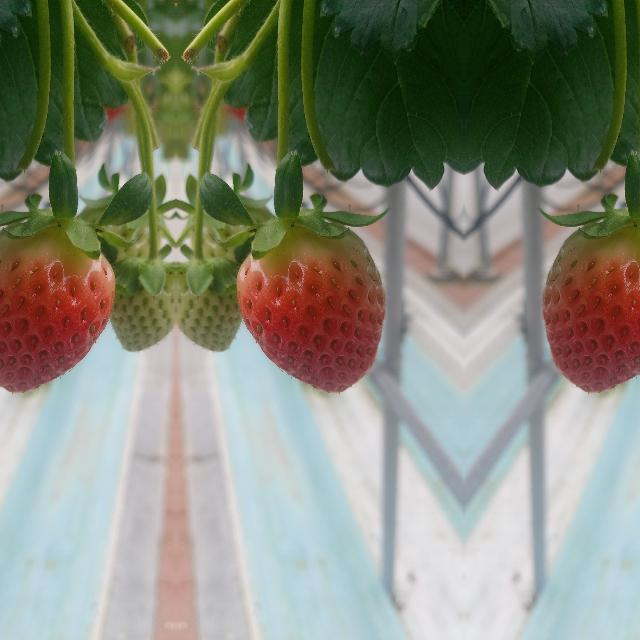Health_100: (236, 226, 384, 392), (0, 226, 114, 391), (541, 226, 640, 391)
Health_25: (176, 256, 237, 356), (114, 256, 174, 356)
